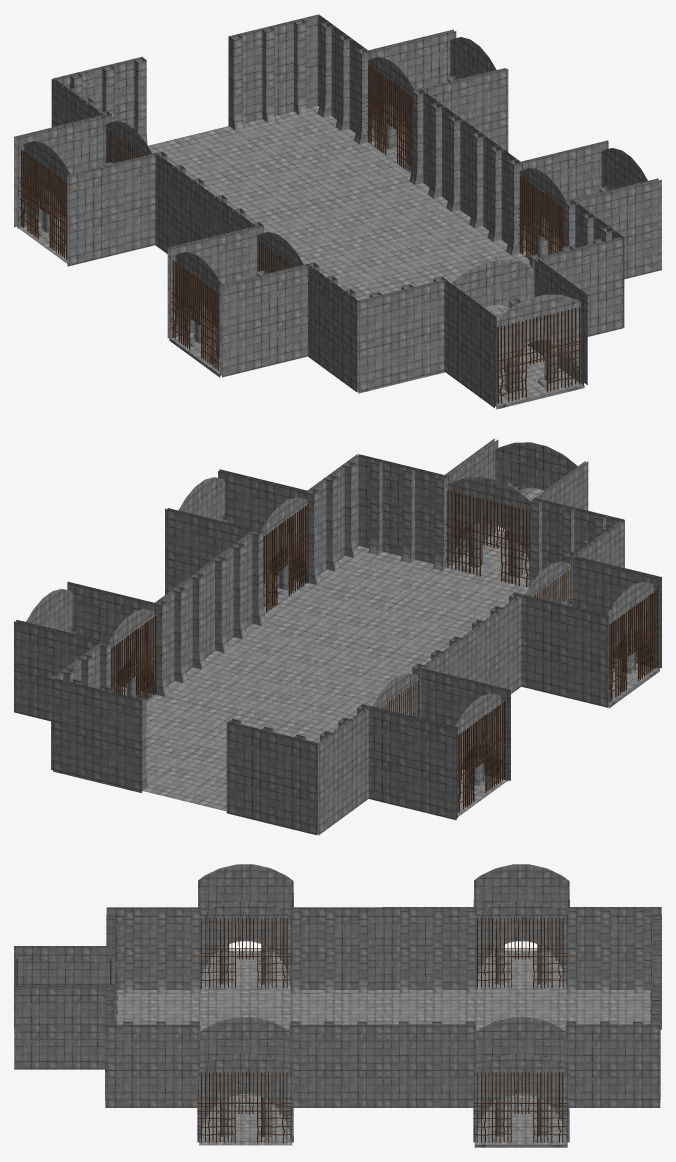
File: castle_hall.glb
The picture shows the model from 3 angles, top to bottom: view 1: azimuth 30°, elevation 25°; view 2: azimuth 150°, elevation 25°; view 3: azimuth 270°, elevation 25°; orthographic projection. The views are drawn at different scales.
Parts seen in each view (by area): view 1: polySurface47_M_Tiled_Floor_0, polySurface47_M_Rusted_Bars_0; view 2: polySurface47_M_Tiled_Floor_0, polySurface47_M_Rusted_Bars_0; view 3: polySurface47_M_Tiled_Floor_0, polySurface47_M_Rusted_Bars_0.
Boxes of the visible parts, <box> form: polySurface47_M_Tiled_Floor_0: <box>14,14,661,409</box>; polySurface47_M_Rusted_Bars_0: <box>19,65,582,404</box>; polySurface47_M_Tiled_Floor_0: <box>14,438,661,835</box>; polySurface47_M_Rusted_Bars_0: <box>111,490,659,812</box>; polySurface47_M_Tiled_Floor_0: <box>14,864,661,1147</box>; polySurface47_M_Rusted_Bars_0: <box>16,917,566,1142</box>.
Size of the model in its own units: 34.64 by 7.49 by 48.3.
Materials: 2 (2 with a texture image).
